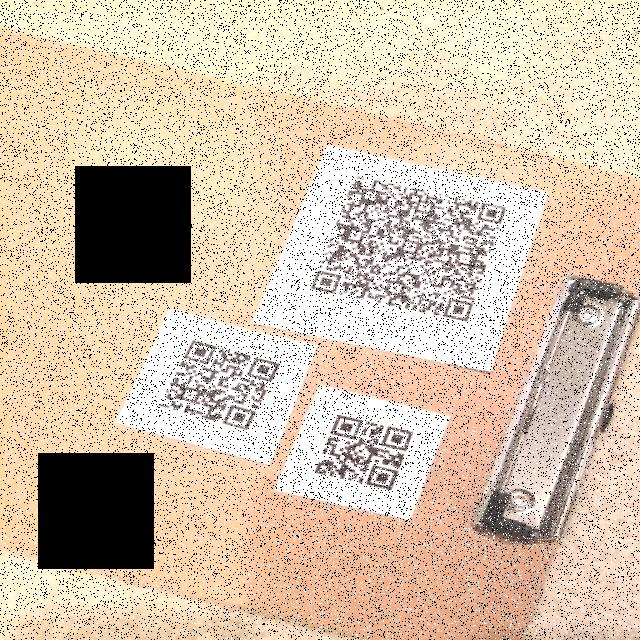QR_CODE: (304, 166, 532, 330), (152, 329, 290, 440), (300, 406, 425, 500)
